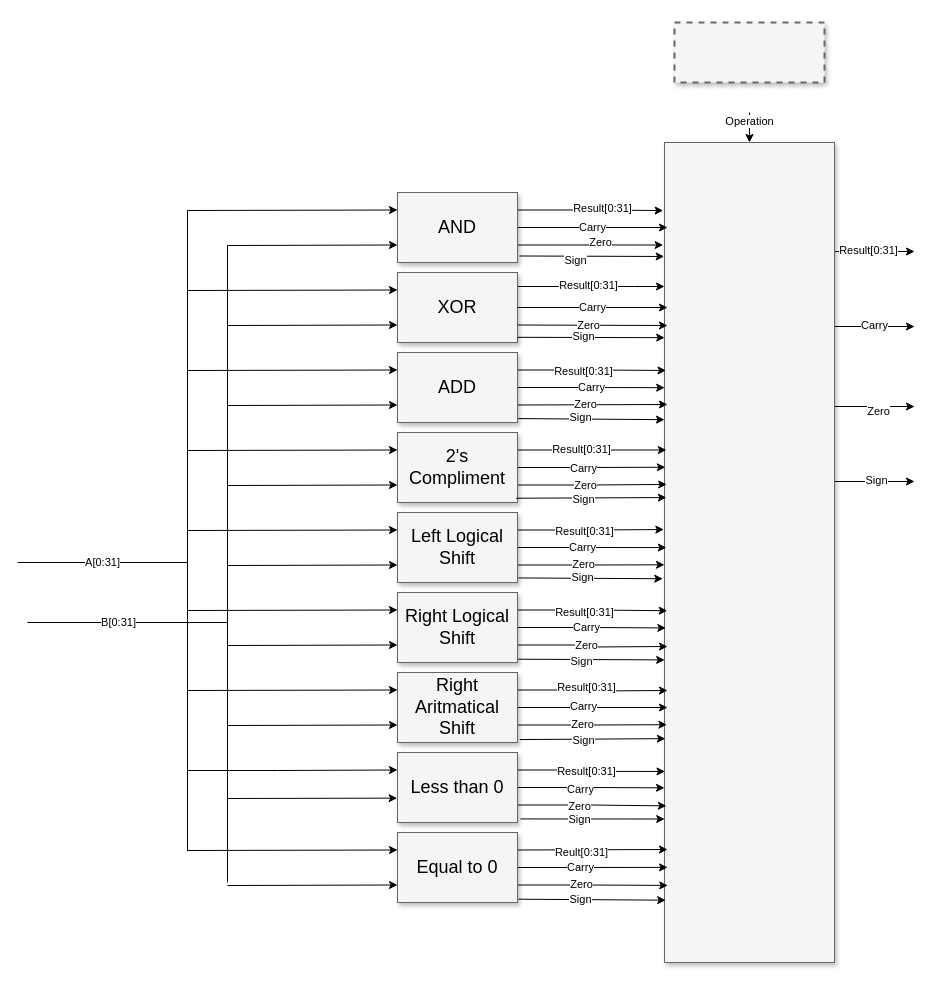
The diagram is 940 pixels wide and 987 high, and some of its shapes have lost their labels. Each missing label, with the centre of its shape:
ALU Design: (750,53)
Mux 9:1: (750,554)
